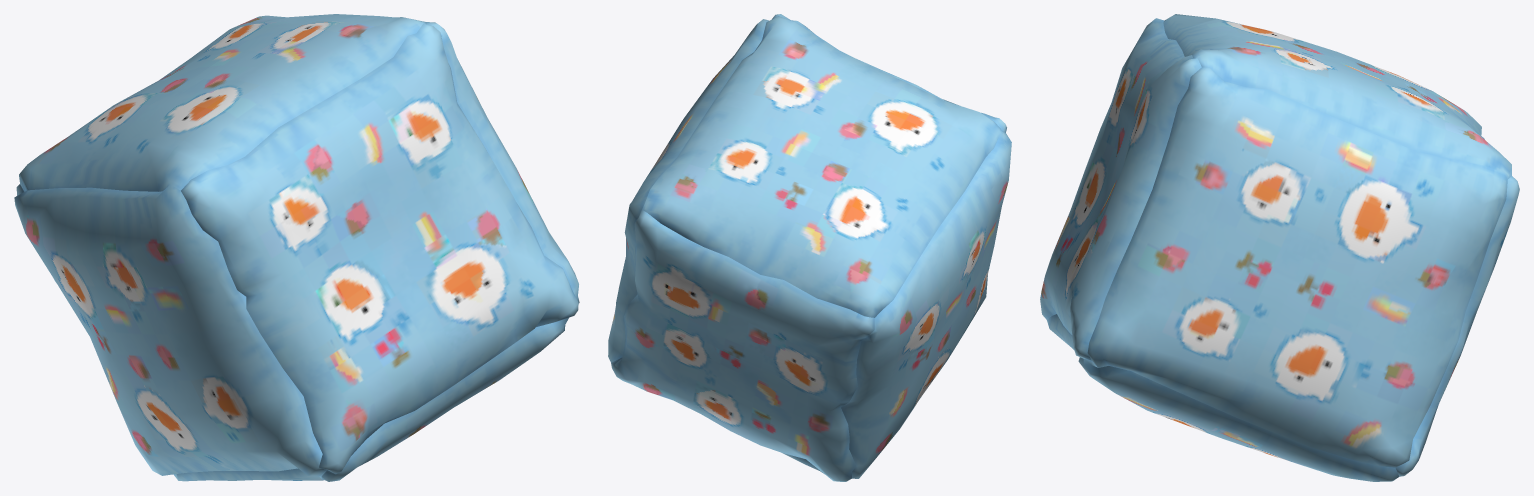
File: ref_gtsandbag.glb
3 renders of one model, left to right at view 1: azimuth 30°, elevation 25°; view 2: azimuth 150°, elevation 25°; view 3: azimuth 270°, elevation 25°, orthographic. The views are drawn at different scales.
Parts seen in each view (by area): view 1: ref_gtsandbag; view 2: ref_gtsandbag; view 3: ref_gtsandbag.
Part boxes in pixels (x1,y1,x2,y2): ref_gtsandbag: [14, 14, 579, 481]; ref_gtsandbag: [608, 14, 1011, 481]; ref_gtsandbag: [1040, 14, 1519, 481].
Bounding box in the file's own units: 0.866 × 1 × 0.9499.
1 material, 1 textured.
